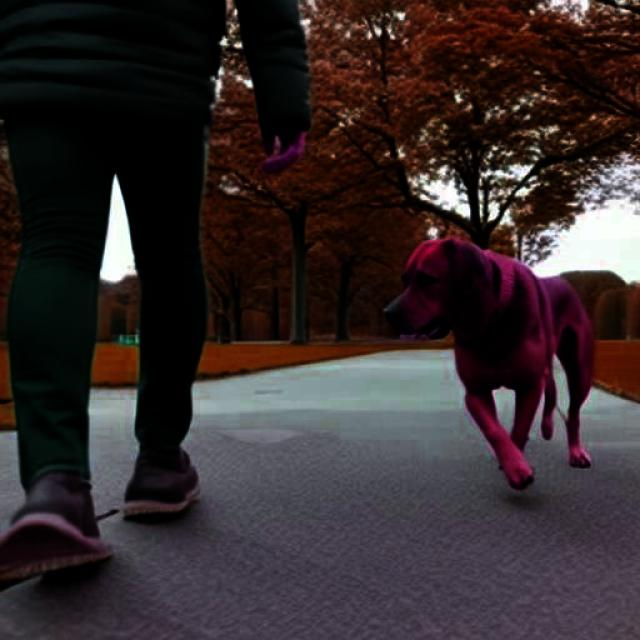Unleashed_Dog: (32, 28, 594, 490)
